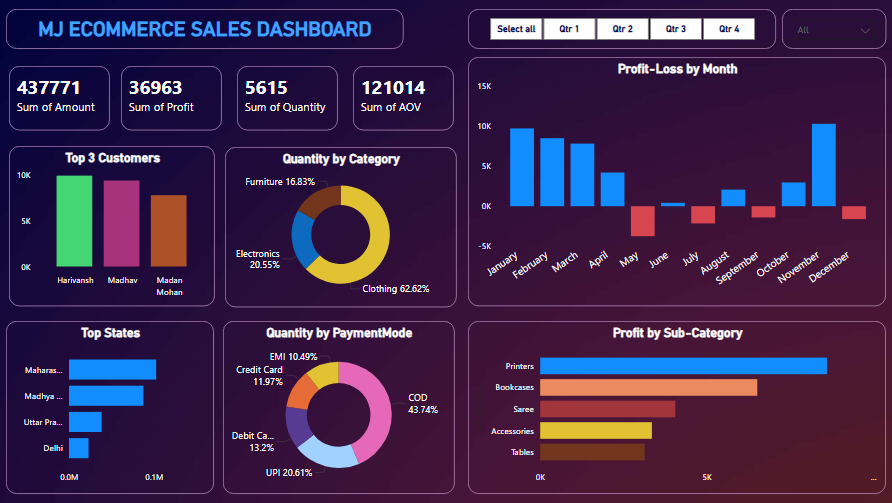

The dashboard page shown, as its layout file describes it:
{"tool":"powerbi","page":{"name":"Page 1","canvas":[1280,720],"ordinal":0},"visuals":[{"type":"textbox","box":[11.1,13.9,568.1,56.9],"z":0},{"type":"columnChart","title":"Profit-Loss by Month","fields":{"Category":["Orders.Order Date.Variation.Date Hierarchy.Month"],"Y":["Details.Profit"]},"box":[670.8,83.3,597.2,355.6],"z":1000},{"type":"clusteredBarChart","title":"Profit by Sub-Category","fields":{"Category":["Details.Sub-Category"],"Y":["Details.Profit"]},"box":[670.8,459.7,597.2,247.2],"z":2000},{"type":"donutChart","title":"Quantity by Category","fields":{"Category":["Details.Category"],"Y":["Details.Quantity"]},"box":[323.6,211.1,330.6,229.2],"z":3000},{"type":"donutChart","title":"Quantity by PaymentMode","fields":{"Category":["Details.PaymentMode"],"Y":["Details.Quantity"]},"box":[320.8,459.7,330.6,247.2],"z":4000},{"type":"columnChart","title":"Top 3 Customers","fields":{"Category":["Orders.CustomerName"],"Y":["Details.Amount"]},"box":[15.3,209.7,294.4,229.2],"z":5000},{"type":"clusteredBarChart","title":"Top States","fields":{"Category":["Orders.State"],"Y":["Details.Amount"]},"box":[11.1,459.7,297.2,247.2],"z":6000},{"type":"multiRowCard","fields":{"Values":["Details.Amount"]},"box":[15.3,95.8,144.4,91.7],"z":7000},{"type":"multiRowCard","fields":{"Values":["Details.Profit"]},"box":[176.4,95.8,144.4,91.7],"z":8000},{"type":"multiRowCard","fields":{"Values":["Details.Quantity"]},"box":[341.7,95.8,144.4,91.7],"z":9000},{"type":"multiRowCard","fields":{"Values":["Details.AOV"]},"box":[506.9,95.8,144.4,91.7],"z":10000},{"type":"slicer","fields":{"Values":["Orders.Order Date.Variation.Date Hierarchy.Quarter"]},"box":[670.8,13.9,440.3,56.9],"z":11000},{"type":"slicer","fields":{"Values":["Orders.State"]},"box":[1119.4,13.9,148.6,56.9],"z":12000}]}

Visuals, with their boxes in screenshot pixels (x1, y1, x2, y2), scaled from the page's 1280x720 canvas onto the 892x503 screenshot:
textbox: rect(8, 10, 404, 49)
"Profit-Loss by Month" columnChart: rect(467, 58, 884, 307)
"Profit by Sub-Category" clusteredBarChart: rect(467, 321, 884, 494)
"Quantity by Category" donutChart: rect(226, 147, 456, 308)
"Quantity by PaymentMode" donutChart: rect(224, 321, 454, 494)
"Top 3 Customers" columnChart: rect(11, 146, 216, 307)
"Top States" clusteredBarChart: rect(8, 321, 215, 494)
multiRowCard - Details.Amount: rect(11, 67, 111, 131)
multiRowCard - Details.Profit: rect(123, 67, 224, 131)
multiRowCard - Details.Quantity: rect(238, 67, 339, 131)
multiRowCard - Details.AOV: rect(353, 67, 454, 131)
slicer - Orders.Order Date.Variation.Date Hierarchy.Quarter: rect(467, 10, 774, 49)
slicer - Orders.State: rect(780, 10, 884, 49)
